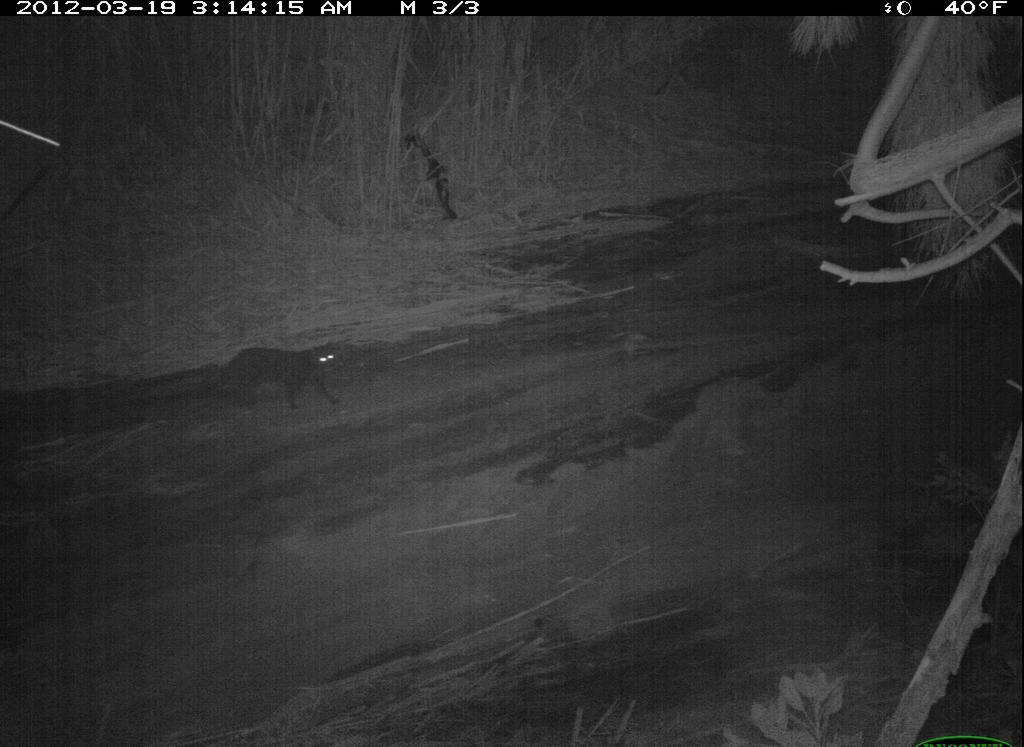cat: (191, 337, 372, 437)
